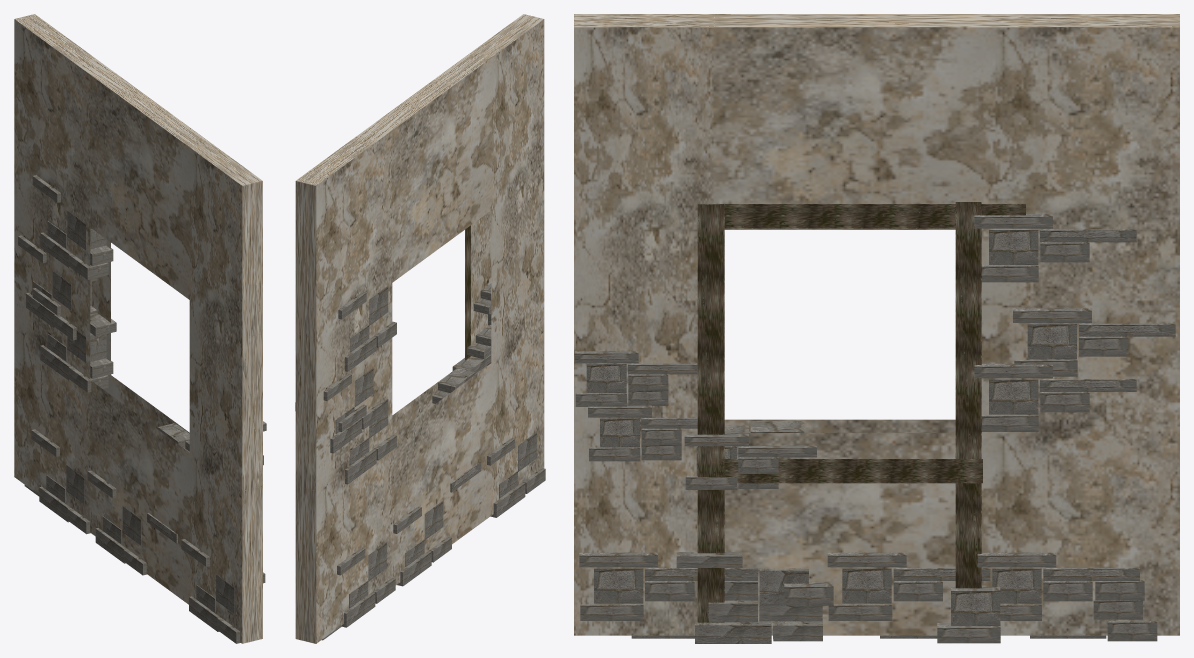
File: WideWallWindow3.fbx
3 views of the same model, side by side, from view 1: azimuth 30°, elevation 25°; view 2: azimuth 150°, elevation 25°; view 3: azimuth 270°, elevation 25° (orthographic). The views are drawn at different scales.
Visible parts, largest first — view 1: Cube.031, Plane.150, Plane.151, Plane.144, Plane.136, Plane.135, Plane.149, Plane.147; view 2: Cube.031, Plane.136, Plane.151, Plane.135, Plane.144, Plane.150, Plane.149, Plane.147, Plane.133, Plane.145, Plane.146; view 3: Cube.031, Plane.133, Plane.132, Plane.142, Plane.136, Plane.134, Plane.144, Plane.150, Plane.151, Plane.135, Plane.149, Plane.148 (+9 smaller).
Part boxes in pixels (<box>): Cube.031: <box>14,14,262,643</box>; Plane.150: <box>32,288,116,392</box>; Plane.151: <box>32,175,113,279</box>; Plane.144: <box>181,539,265,643</box>; Plane.136: <box>87,470,146,575</box>; Plane.135: <box>31,429,90,534</box>; Plane.149: <box>18,235,97,340</box>; Plane.147: <box>158,423,189,452</box>; Cube.031: <box>295,14,544,643</box>; Plane.136: <box>393,501,451,586</box>; Plane.151: <box>338,286,396,371</box>; Plane.135: <box>337,542,395,627</box>; Plane.144: <box>487,432,545,517</box>; Plane.150: <box>338,399,396,484</box>; Plane.149: <box>295,367,382,453</box>; Plane.147: <box>432,354,491,403</box>; Plane.133: <box>465,225,470,360</box>; Plane.145: <box>467,325,491,365</box>; Plane.146: <box>473,283,491,325</box>; Cube.031: <box>574,14,1179,635</box>; Plane.133: <box>697,204,724,622</box>; Plane.132: <box>955,202,981,588</box>; Plane.142: <box>661,552,822,643</box>; Plane.136: <box>827,552,990,638</box>; Plane.134: <box>720,204,1025,228</box>; Plane.144: <box>579,552,741,638</box>; Plane.150: <box>974,363,1136,431</box>; Plane.151: <box>974,214,1136,282</box>; Plane.135: <box>977,552,1139,638</box>; Plane.149: <box>1013,308,1175,376</box>; Plane.148: <box>719,459,982,483</box>.
Size of the model in its own units: 33.41 by 454 by 406.
